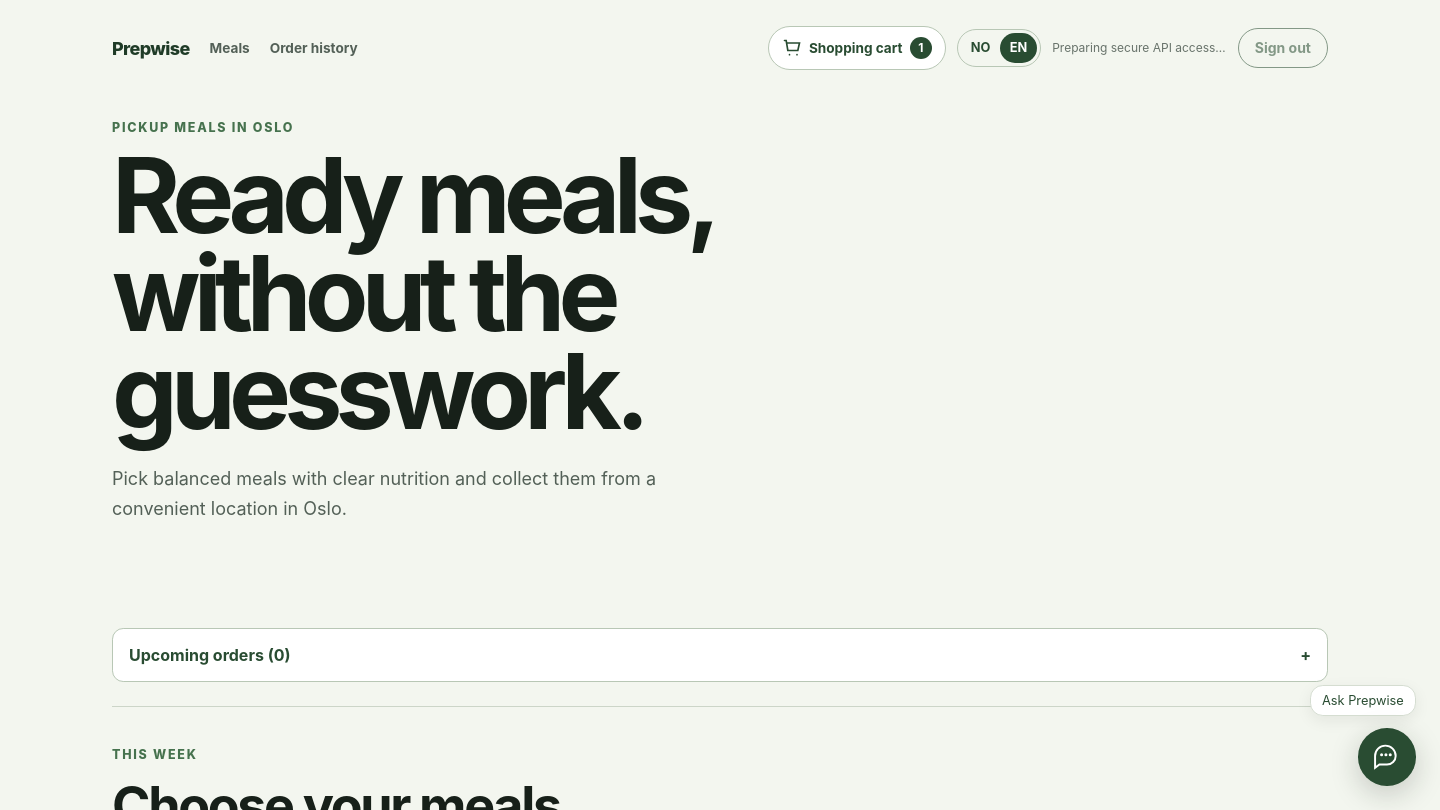
Test: customer workflow regressions › confirms the server quote and retains the same purchase after an uncertain response
Click the button with aria-label "Open cart (1)": (857, 48) [768,26,946,70]
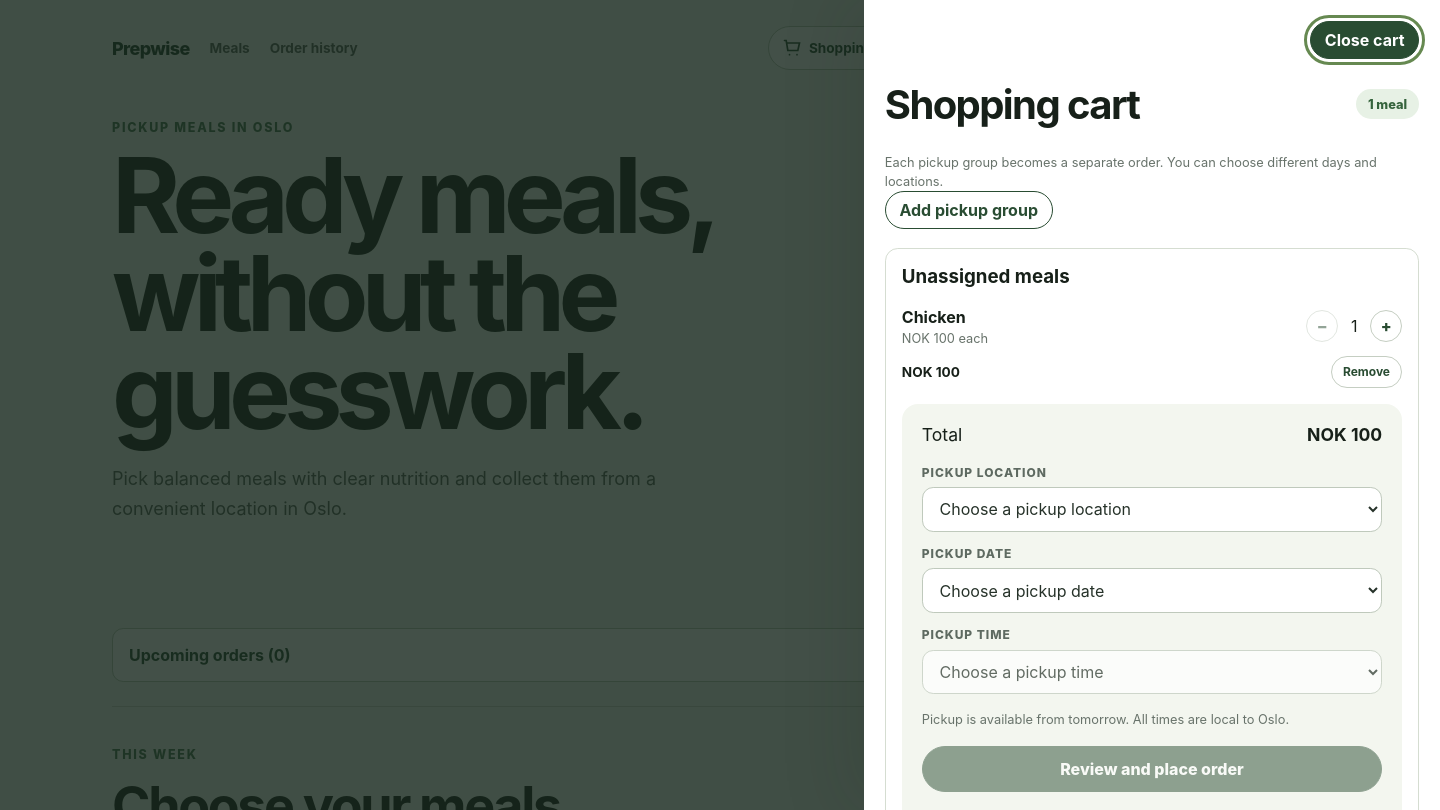
Select "Kitchen — Main 1, 0001 Oslo" in the dropdown labelled "Pickup location": (1152, 509) [922,487,1382,532]
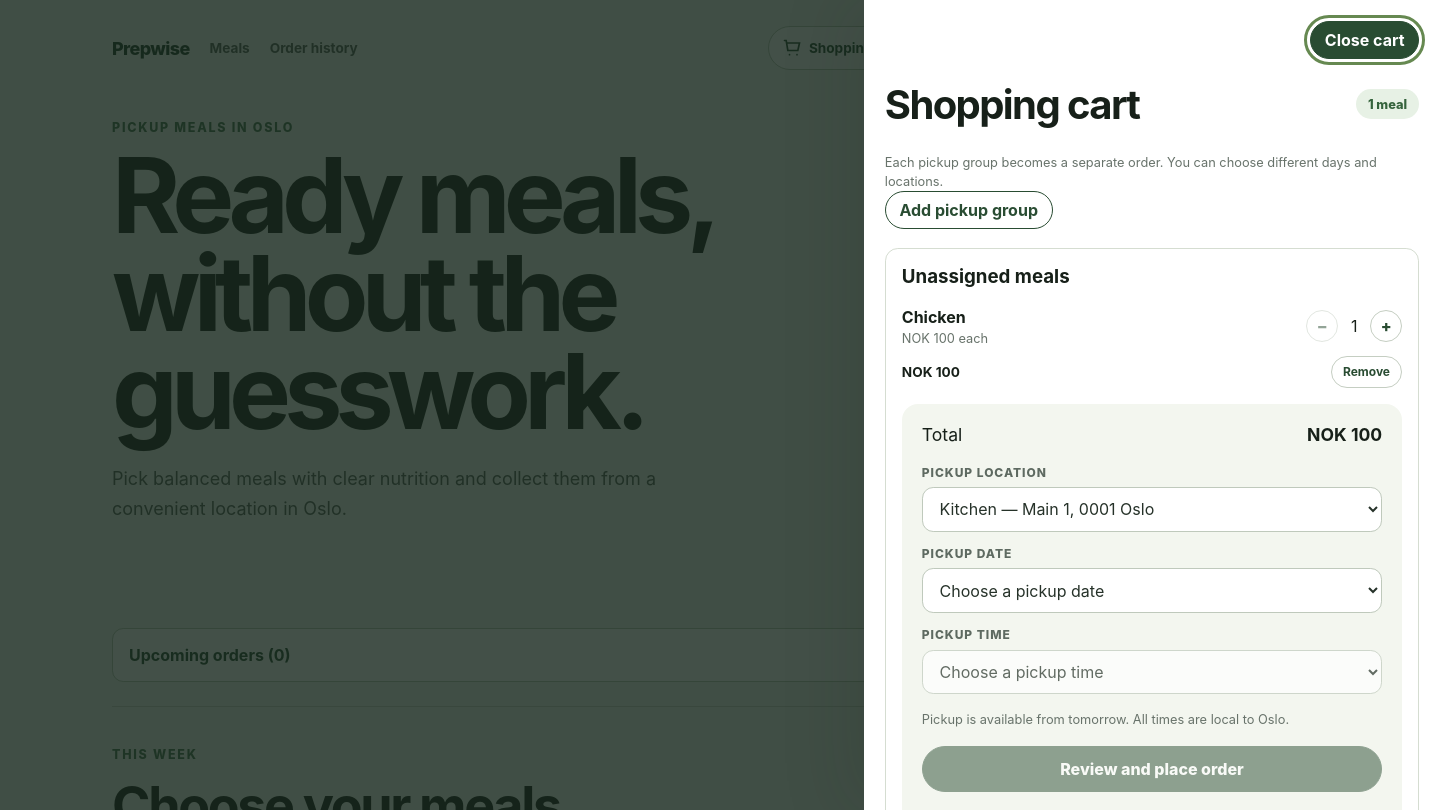
Select "Friday 2 October" in the dropdown labelled "Pickup date": (1152, 591) [922,568,1382,613]
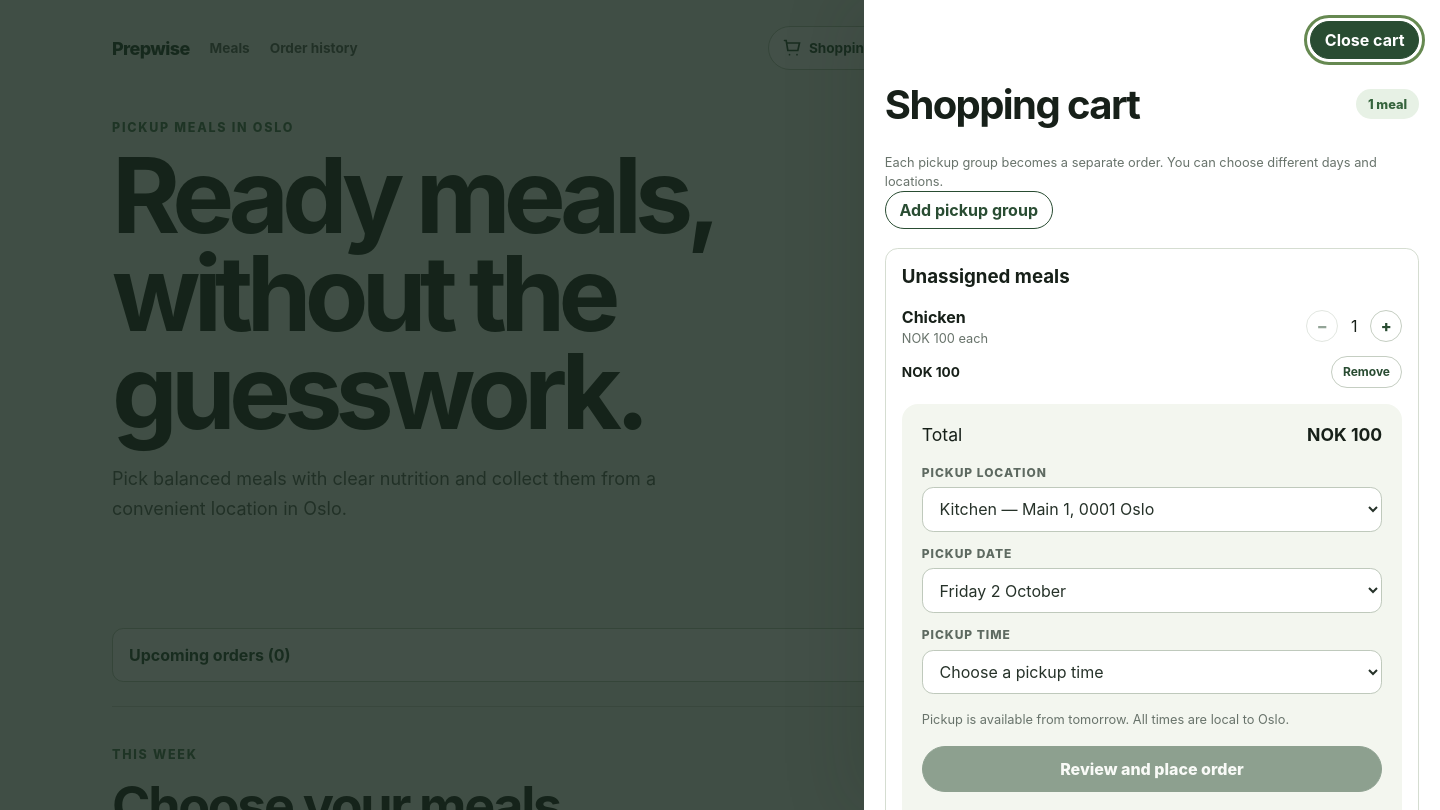
Select "16:00–18:00" in the dropdown labelled "Pickup time": (1152, 672) [922,650,1382,694]
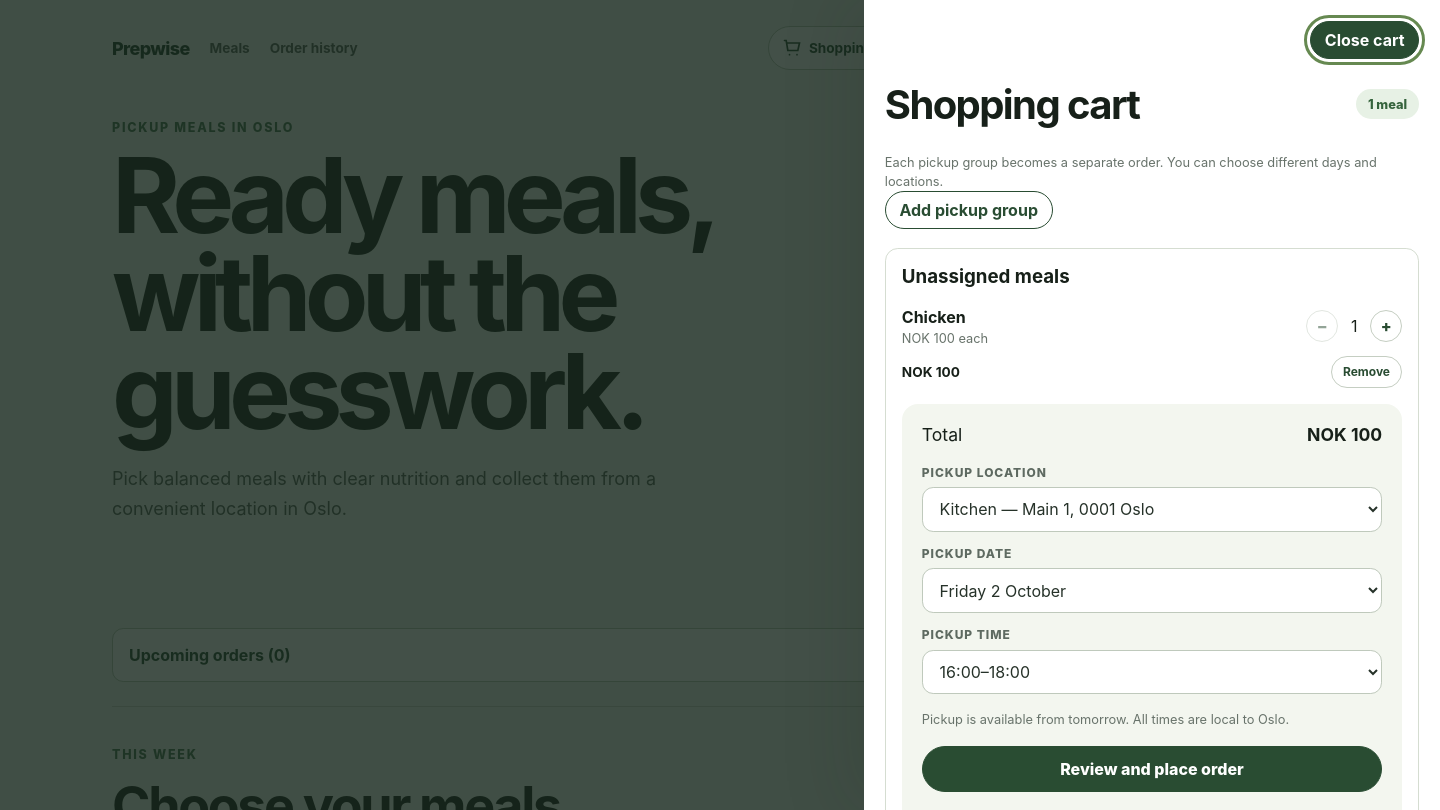
Click the button "Review and place order": (1152, 769) [922,746,1382,792]
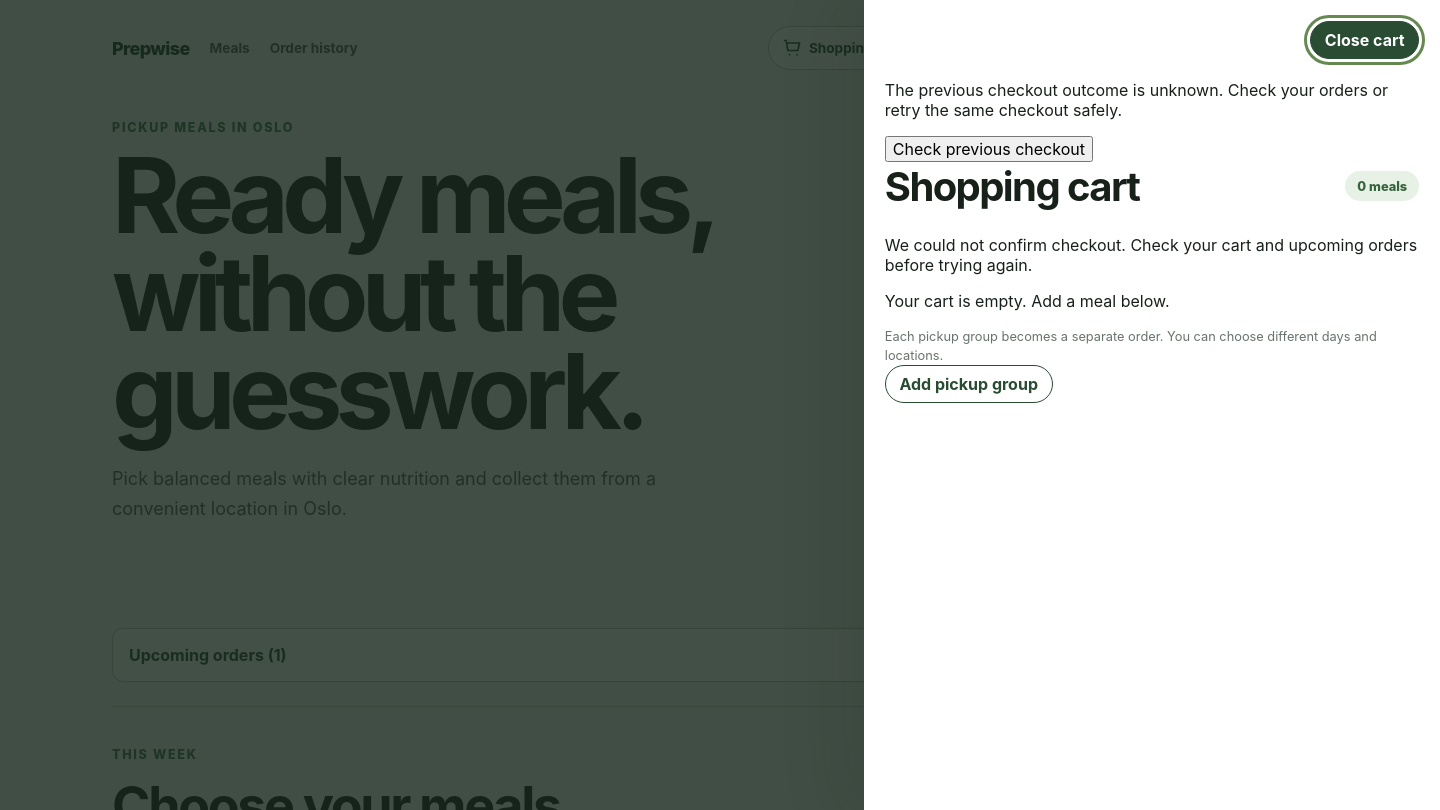
Now the button "Check previous checkout" is enabled
Click the button "Check previous checkout": (989, 149) [885,136,1093,162]
(page scrolled)
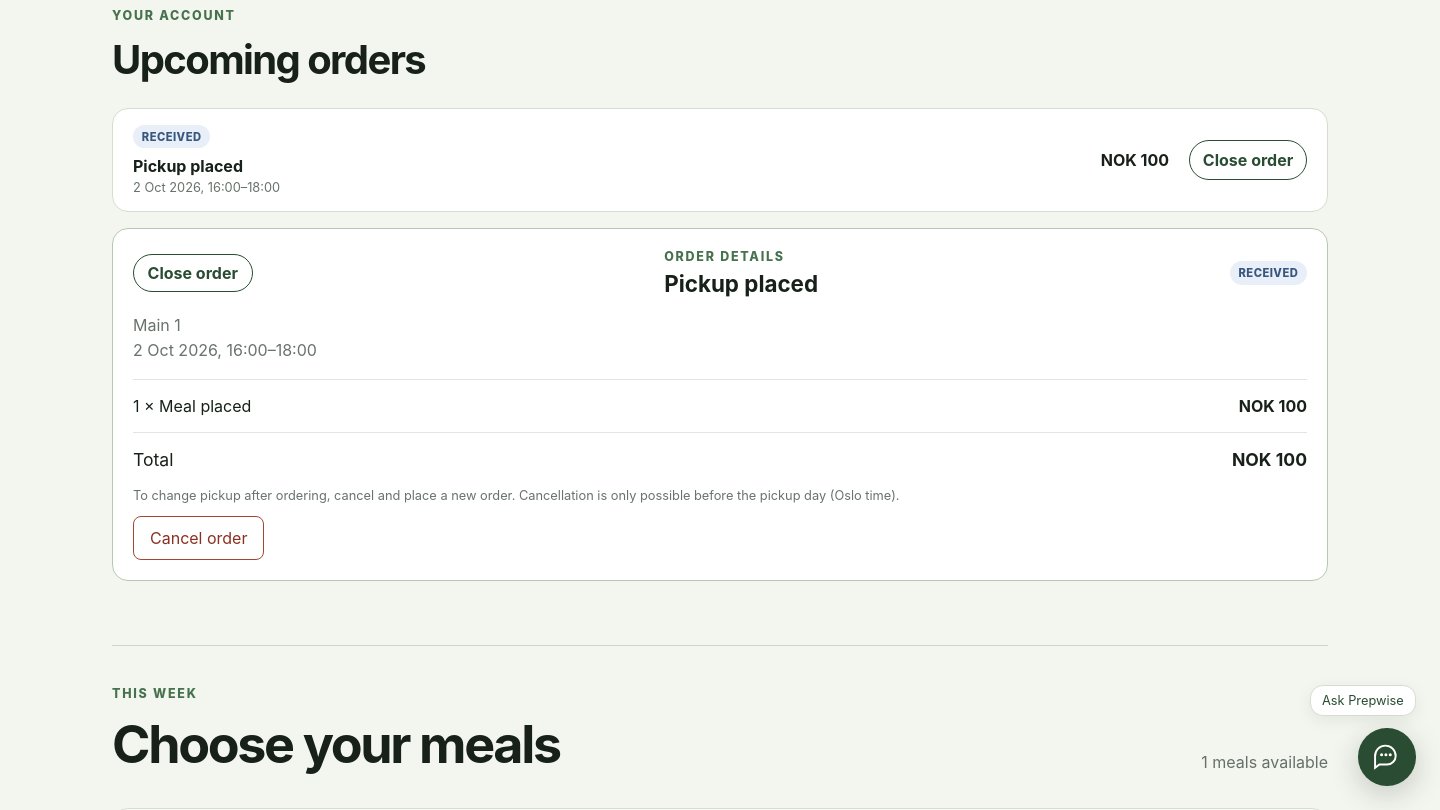
Now the text "1 × Meal placed" is shown, box [133,396,251,416]
